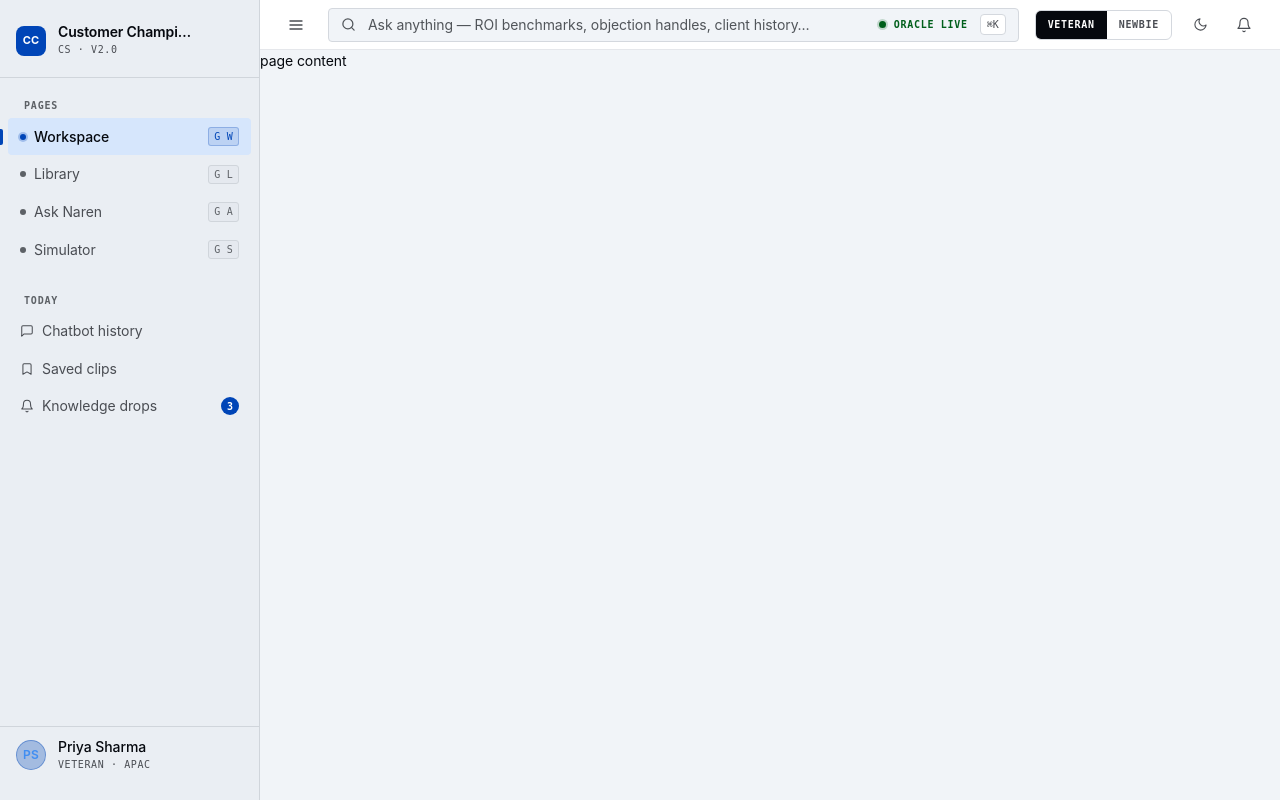
Test: AppShell oracle › suggests on focus and filters as you type
This screenshot has width=1280, height=800.
Click the dropdown named "Knowledge Oracle".
click(617, 25)  # box 368,14 -> 867,35
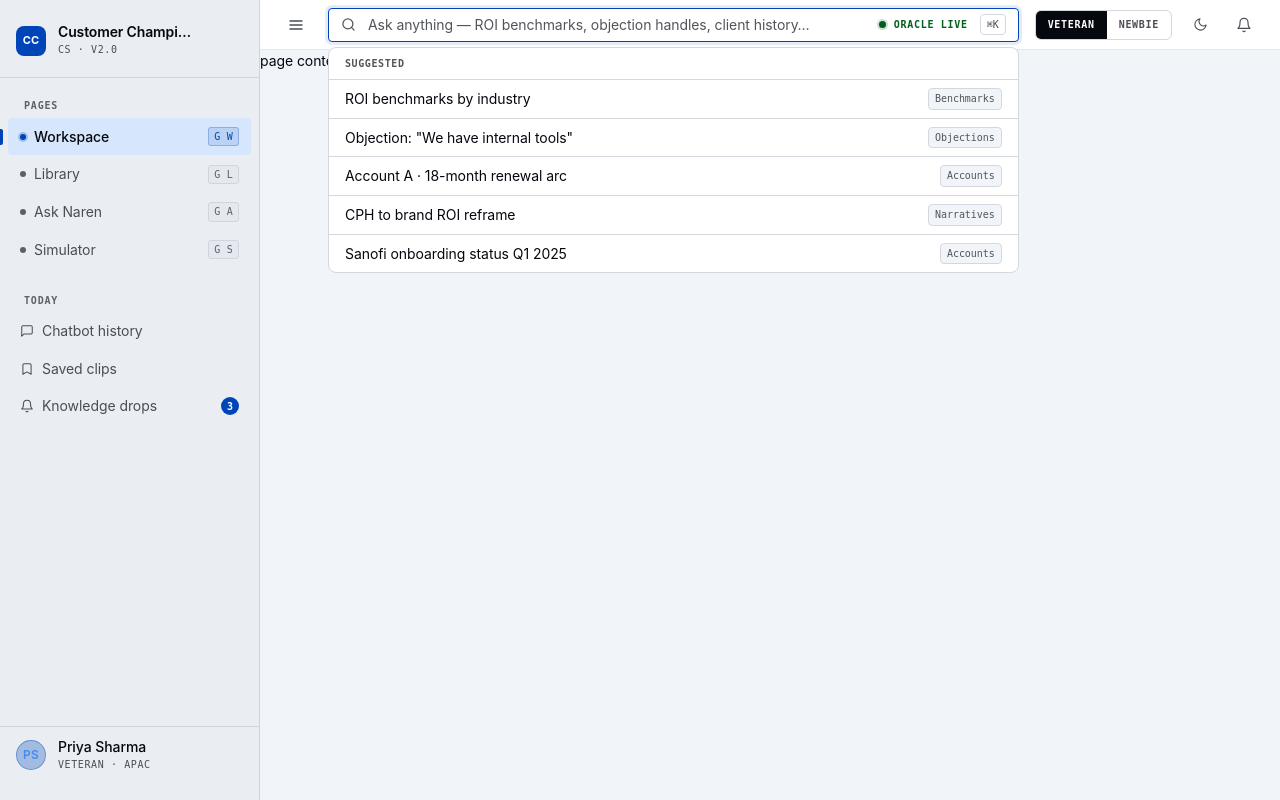
Check: the text "Suggested" is shown, box 329,48 -> 1018,80
Check: the number of options is 5, box 329,80 -> 1018,119; 329,119 -> 1018,157; 329,157 -> 1018,196; 329,196 -> 1018,235; 329,235 -> 1018,272
Type "ROI" into the dropdown named "Knowledge Oracle".
click(617, 25); type("ROI")  # box 368,14 -> 867,35
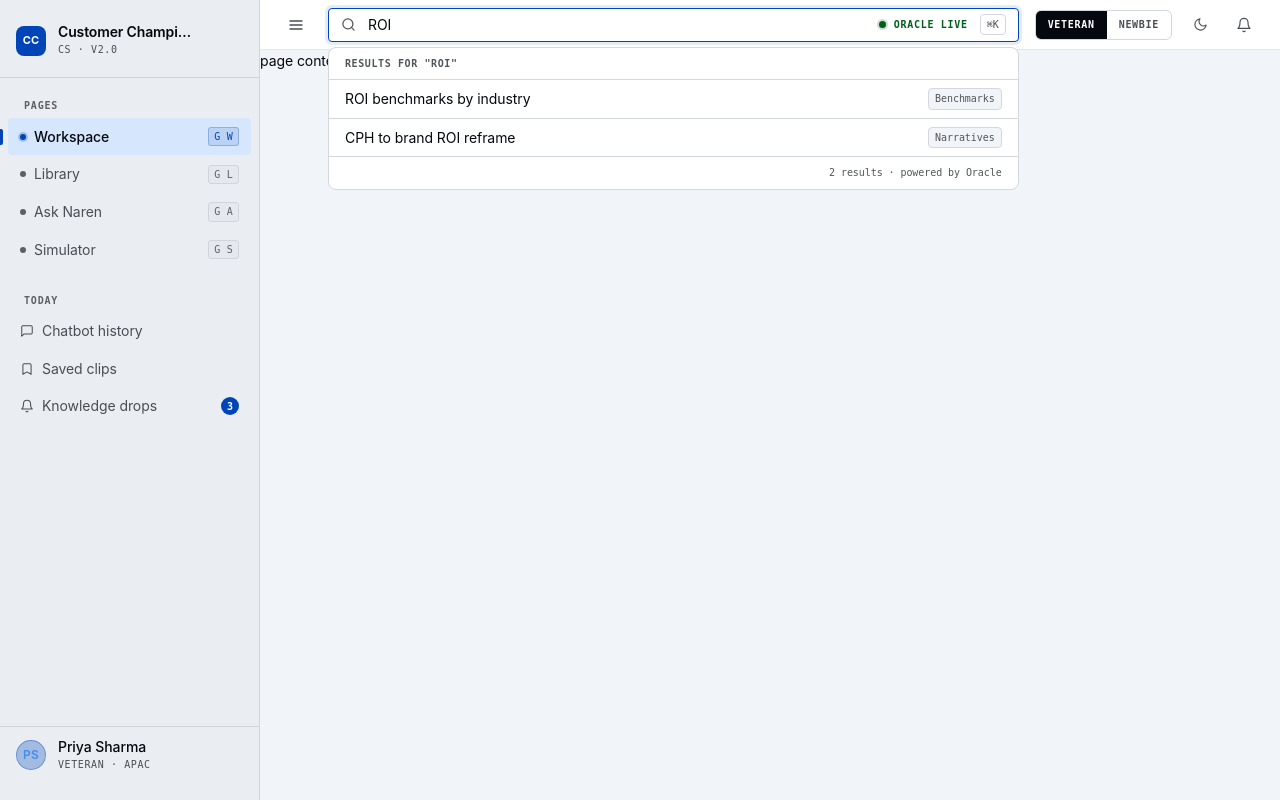
Check: the text "Results for \"ROI\"" is shown, box 329,48 -> 1018,80
Check: the text "2 results · powered by Oracle" is shown, box 329,156 -> 1018,189
